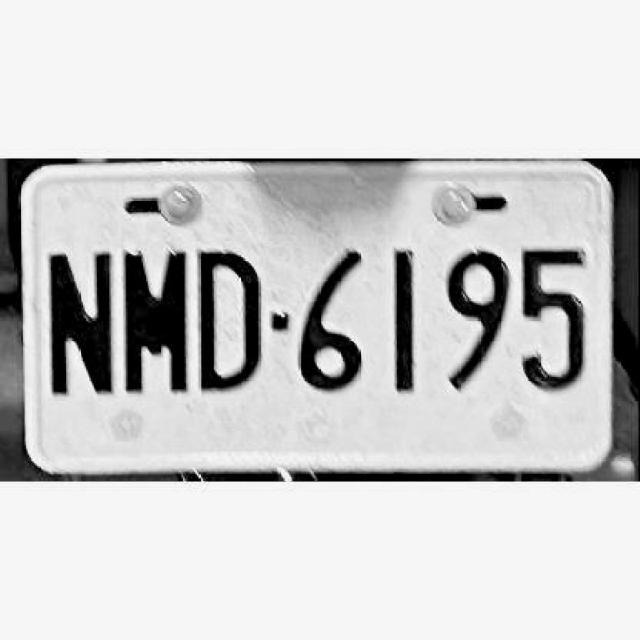-: (271, 311, 292, 334)
1: (392, 240, 418, 394)
5: (515, 238, 591, 394)
6: (294, 240, 369, 392)
9: (442, 243, 516, 392)
D: (194, 240, 263, 392)
M: (116, 244, 190, 398)
N: (43, 242, 119, 398)
